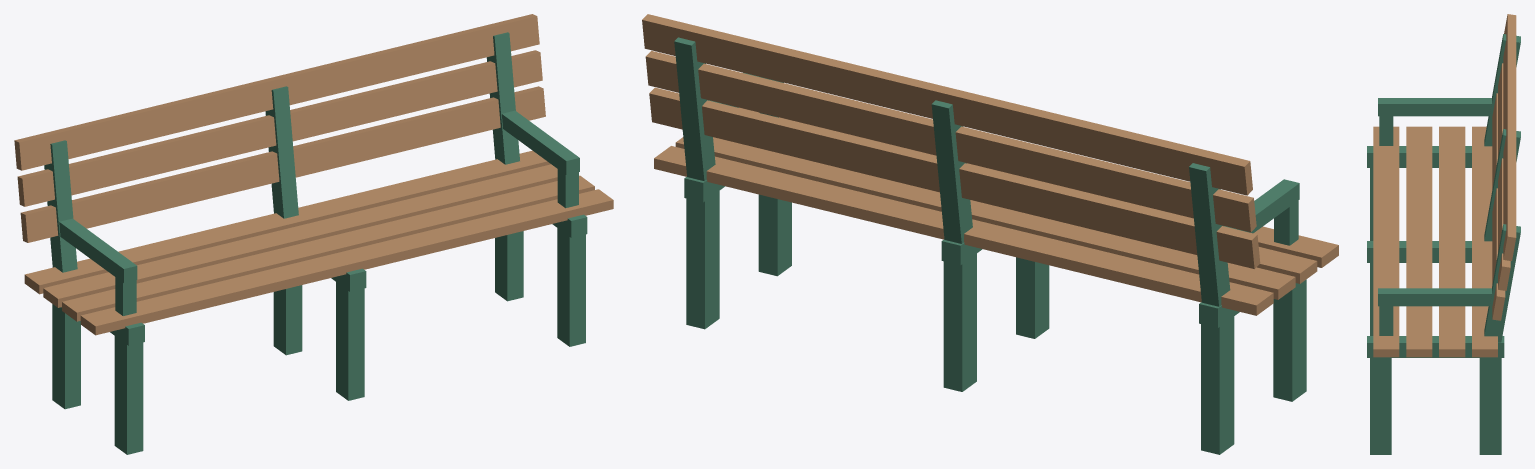
Rendered from Paris_Bench.fbx.
3 renders of one model, left to right at view 1: azimuth 30°, elevation 25°; view 2: azimuth 150°, elevation 25°; view 3: azimuth 270°, elevation 25°, orthographic. The views are drawn at different scales.
Visible parts, largest first — view 1: Paris_Bench; view 2: Paris_Bench; view 3: Paris_Bench.
Part boxes in pixels (left/top/right/bottom): Paris_Bench: left=14, top=14, right=613, bottom=454; Paris_Bench: left=642, top=14, right=1338, bottom=454; Paris_Bench: left=1367, top=14, right=1520, bottom=454.
Size of the model in its own units: 1.92 by 0.9294 by 0.5603.
